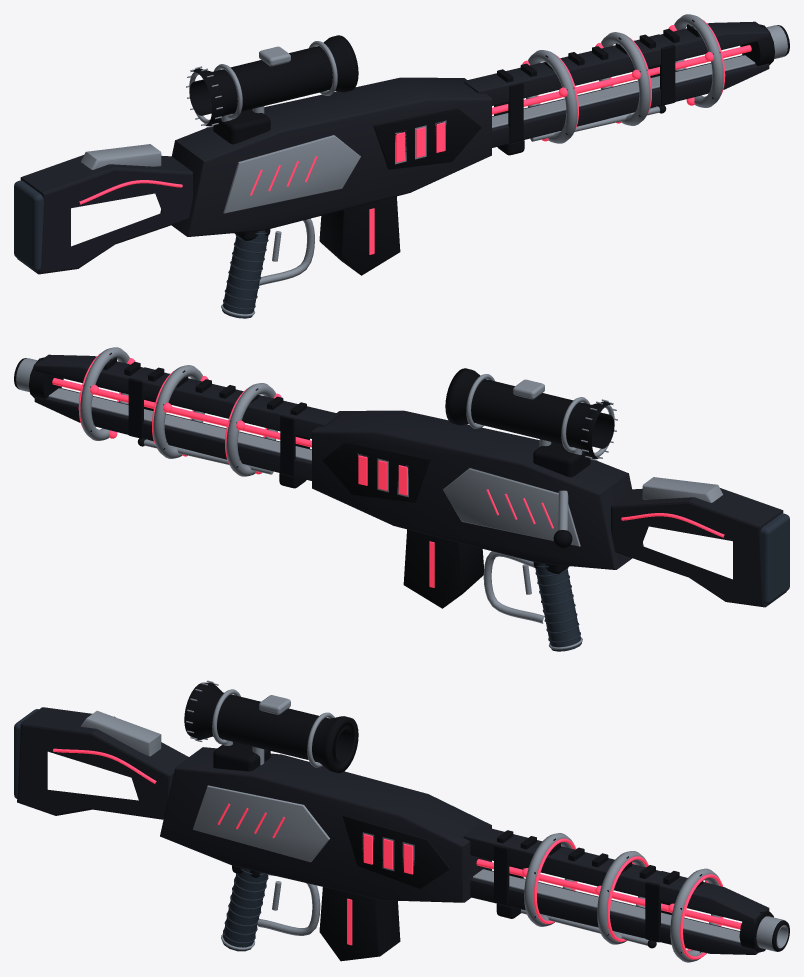
Rendered from void-lance.glb.
The picture shows the model from 3 angles, top to bottom: view 1: azimuth 30°, elevation 25°; view 2: azimuth 150°, elevation 25°; view 3: azimuth 330°, elevation 25°; orthographic projection.
Visible parts, largest first — view 1: 05_Longnight_Sniper__body_Sculpt_coat, 05_Longnight_Sniper__body_Sculpt_metal, 05_Longnight_Sniper__stock_Sculpt_coat, 05_Longnight_Sniper__optic_Sculpt_frame, 05_Longnight_Sniper__body_Sculpt_frame, 05_Longnight_Sniper__rings_Sculpt_metal, 05_Longnight_Sniper__magazine_Sculpt_frame, 05_Longnight_Sniper__body_Sculpt_grip, 05_Longnight_Sniper__body_Sculpt_glow, 05_Longnight_Sniper__stock_Sculpt_grip, 05_Longnight_Sniper__optic_Sculpt_metal, 05_Longnight_Sniper__stock_Sculpt_metal (+1 smaller); view 2: 05_Longnight_Sniper__body_Sculpt_coat, 05_Longnight_Sniper__body_Sculpt_metal, 05_Longnight_Sniper__stock_Sculpt_coat, 05_Longnight_Sniper__optic_Sculpt_frame, 05_Longnight_Sniper__body_Sculpt_frame, 05_Longnight_Sniper__rings_Sculpt_metal, 05_Longnight_Sniper__magazine_Sculpt_frame, 05_Longnight_Sniper__body_Sculpt_grip, 05_Longnight_Sniper__body_Sculpt_glow, 05_Longnight_Sniper__stock_Sculpt_grip, 05_Longnight_Sniper__optic_Sculpt_metal, 05_Longnight_Sniper__stock_Sculpt_metal (+1 smaller); view 3: 05_Longnight_Sniper__body_Sculpt_coat, 05_Longnight_Sniper__body_Sculpt_metal, 05_Longnight_Sniper__stock_Sculpt_coat, 05_Longnight_Sniper__optic_Sculpt_frame, 05_Longnight_Sniper__body_Sculpt_frame, 05_Longnight_Sniper__magazine_Sculpt_frame, 05_Longnight_Sniper__rings_Sculpt_metal, 05_Longnight_Sniper__body_Sculpt_glow, 05_Longnight_Sniper__body_Sculpt_grip, 05_Longnight_Sniper__stock_Sculpt_metal, 05_Longnight_Sniper__optic_Sculpt_metal, 05_Longnight_Sniper__rings_Sculpt_glow (+1 smaller).
Boxes of the visible parts, x1,y1,x2,y2 form: 05_Longnight_Sniper__body_Sculpt_coat: [160, 21, 769, 236]; 05_Longnight_Sniper__body_Sculpt_metal: [221, 25, 787, 316]; 05_Longnight_Sniper__stock_Sculpt_coat: [17, 155, 192, 274]; 05_Longnight_Sniper__optic_Sculpt_frame: [189, 35, 358, 144]; 05_Longnight_Sniper__body_Sculpt_frame: [234, 24, 789, 240]; 05_Longnight_Sniper__rings_Sculpt_metal: [526, 14, 723, 143]; 05_Longnight_Sniper__magazine_Sculpt_frame: [319, 196, 400, 275]; 05_Longnight_Sniper__body_Sculpt_grip: [222, 230, 268, 318]; 05_Longnight_Sniper__body_Sculpt_glow: [250, 45, 751, 195]; 05_Longnight_Sniper__stock_Sculpt_grip: [14, 180, 43, 271]; 05_Longnight_Sniper__optic_Sculpt_metal: [186, 41, 337, 127]; 05_Longnight_Sniper__stock_Sculpt_metal: [81, 144, 161, 169]; 05_Longnight_Sniper__body_Sculpt_coat: [34, 354, 643, 569]; 05_Longnight_Sniper__body_Sculpt_metal: [16, 358, 582, 649]; 05_Longnight_Sniper__stock_Sculpt_coat: [611, 488, 786, 607]; 05_Longnight_Sniper__optic_Sculpt_frame: [445, 368, 614, 477]; 05_Longnight_Sniper__body_Sculpt_frame: [14, 357, 569, 573]; 05_Longnight_Sniper__rings_Sculpt_metal: [80, 347, 277, 476]; 05_Longnight_Sniper__magazine_Sculpt_frame: [403, 529, 483, 608]; 05_Longnight_Sniper__body_Sculpt_grip: [535, 563, 581, 651]; 05_Longnight_Sniper__body_Sculpt_glow: [52, 378, 553, 528]; 05_Longnight_Sniper__stock_Sculpt_grip: [760, 513, 789, 604]; 05_Longnight_Sniper__optic_Sculpt_metal: [466, 374, 617, 460]; 05_Longnight_Sniper__stock_Sculpt_metal: [642, 477, 722, 502]; 05_Longnight_Sniper__body_Sculpt_coat: [160, 747, 769, 954]; 05_Longnight_Sniper__body_Sculpt_metal: [192, 785, 788, 951]; 05_Longnight_Sniper__stock_Sculpt_coat: [17, 707, 188, 819]; 05_Longnight_Sniper__optic_Sculpt_frame: [184, 682, 358, 773]; 05_Longnight_Sniper__body_Sculpt_frame: [232, 814, 789, 952]; 05_Longnight_Sniper__magazine_Sculpt_frame: [319, 887, 400, 961]; 05_Longnight_Sniper__rings_Sculpt_metal: [524, 833, 720, 962]; 05_Longnight_Sniper__body_Sculpt_glow: [217, 803, 741, 929]; 05_Longnight_Sniper__body_Sculpt_grip: [222, 868, 268, 951]; 05_Longnight_Sniper__stock_Sculpt_metal: [81, 711, 161, 756]; 05_Longnight_Sniper__optic_Sculpt_metal: [186, 680, 334, 767]; 05_Longnight_Sniper__rings_Sculpt_glow: [522, 838, 723, 959].
Size of the model in its own units: 4.16 by 1.33 by 0.523.
